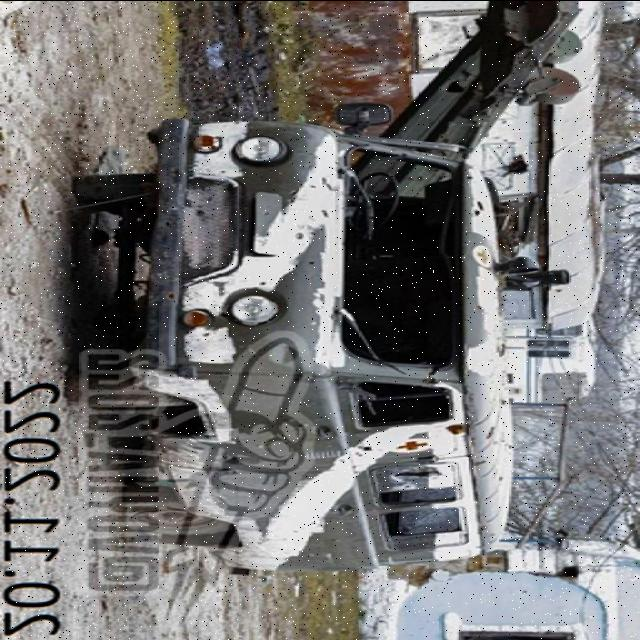CAR: (56, 118, 524, 572)
